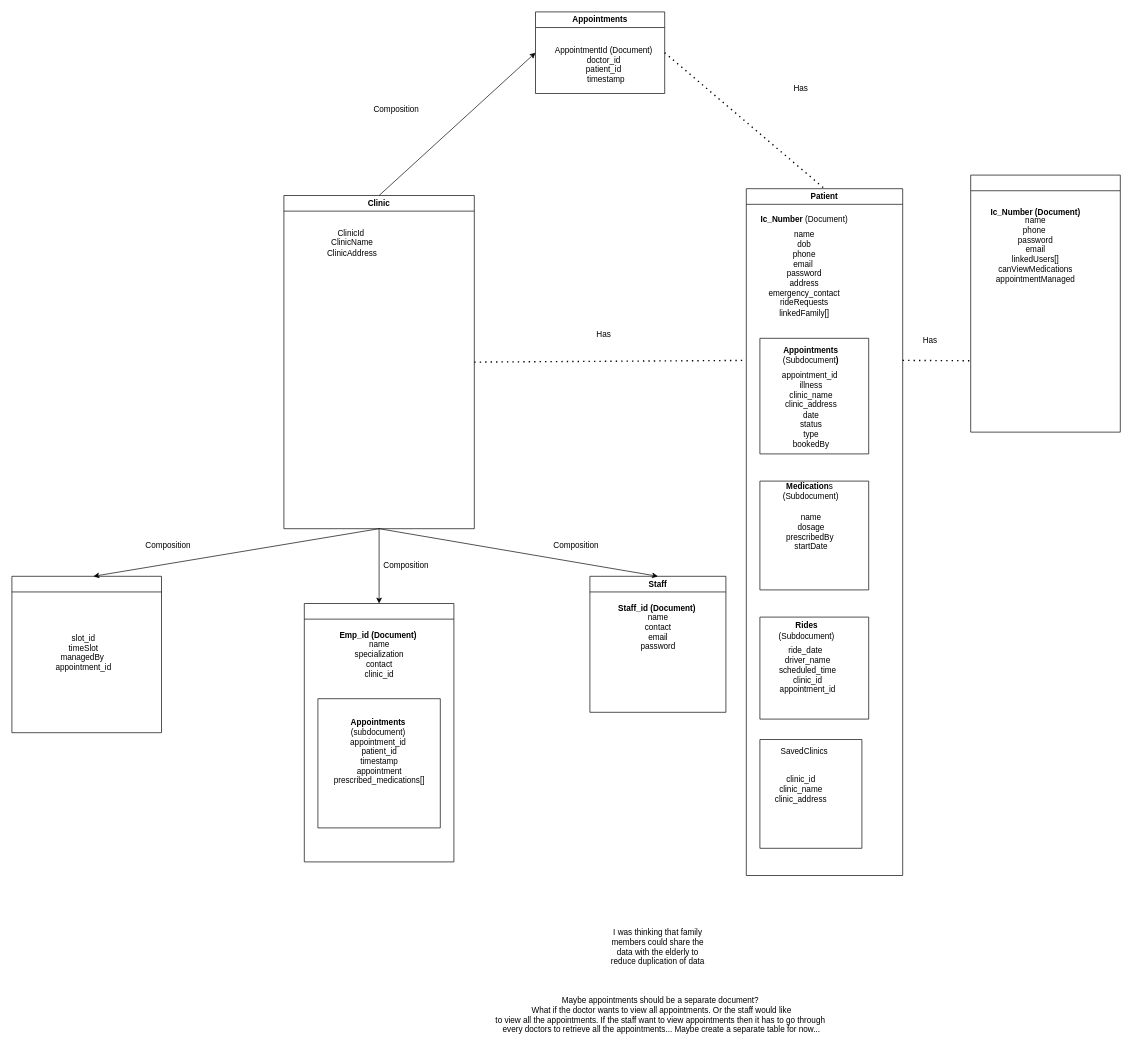
This 1132x1051 diagram has some shape labels left out. The box of each missing label's shape, as (x1, y1, x2, y2) in pixels:
Doctors: (304, 603, 454, 862)
FamilyMembers: (970, 174, 1120, 432)
Slots: (11, 576, 162, 733)
